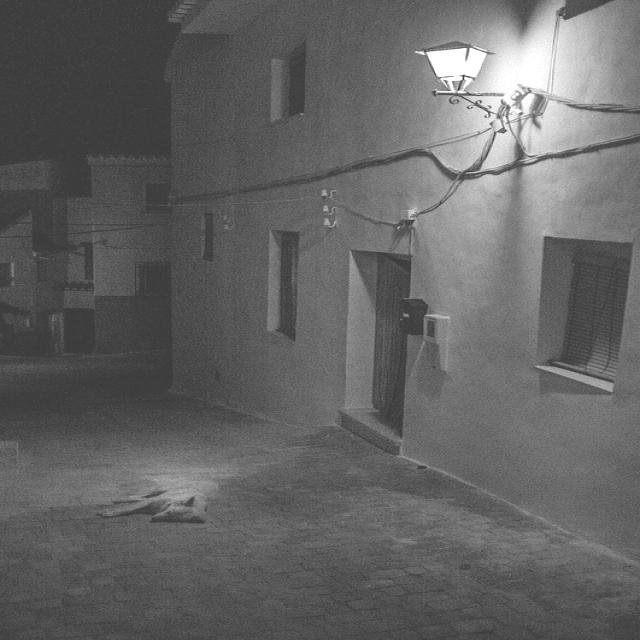Dog: (116, 432, 248, 548)
